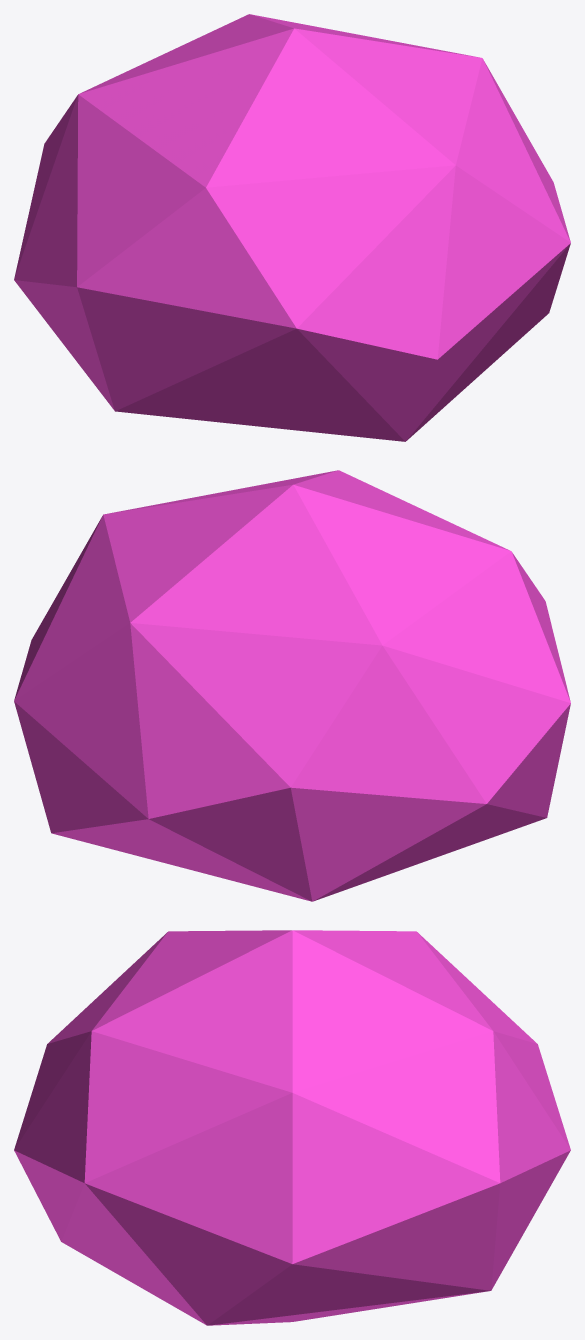
Rendered from Bush_Small_004.fbx.
3 renders of one model, top to bottom at view 1: azimuth 30°, elevation 25°; view 2: azimuth 150°, elevation 25°; view 3: azimuth 270°, elevation 25°, orthographic. The views are drawn at different scales.
Parts seen in each view (by area): view 1: Bush Small.004; view 2: Bush Small.004; view 3: Bush Small.004.
Part boxes in pixels (x1,y1,x2,y2): Bush Small.004: [14, 14, 570, 441]; Bush Small.004: [14, 470, 570, 901]; Bush Small.004: [14, 930, 570, 1325].
Size of the model in its own units: 84.62 by 54.39 by 83.09.
